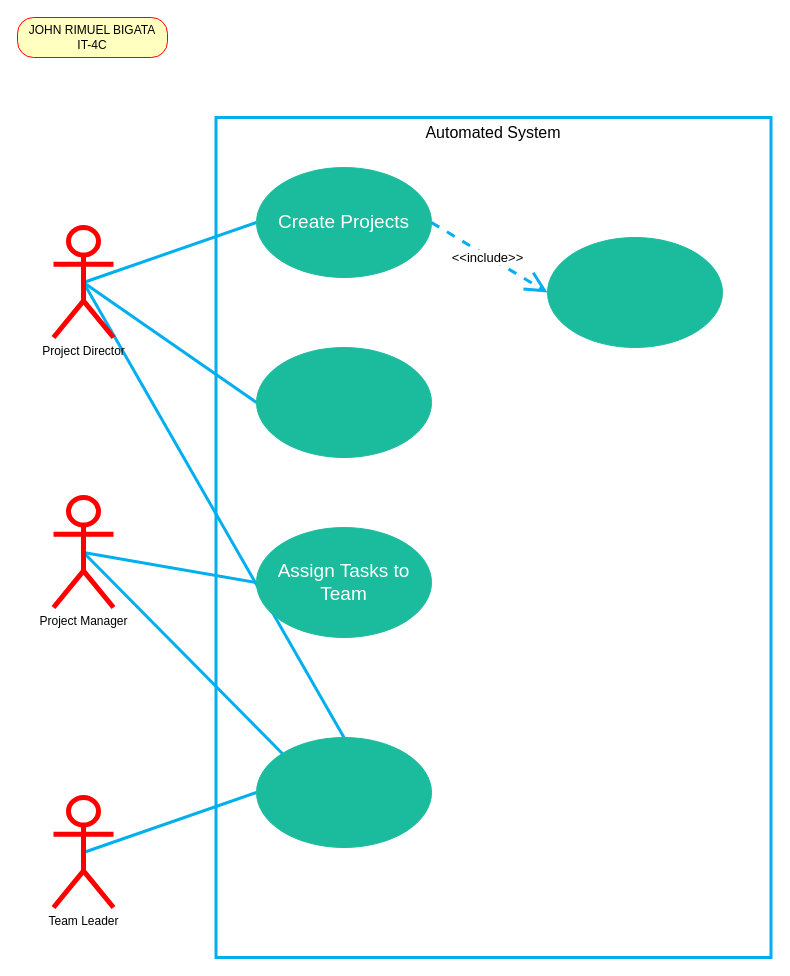
This 790x976 diagram has some shape labels left out. Here are the shapes that lost their labels. From the top down, the centre of each, then its label:
(634,292): Create Profile
(344,402): Create Teams
(344,792): Assign tasks to Team members
